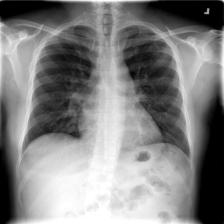normal: (16, 23, 196, 166)
